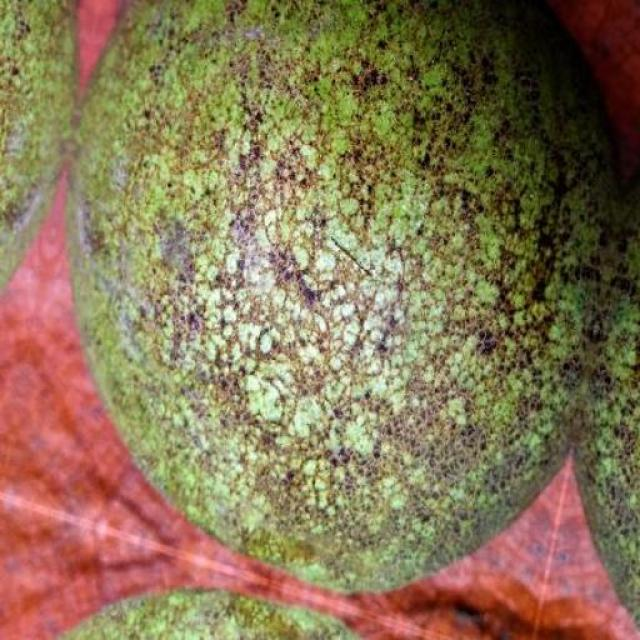Scab: (69, 0, 640, 621), (0, 0, 74, 283)
